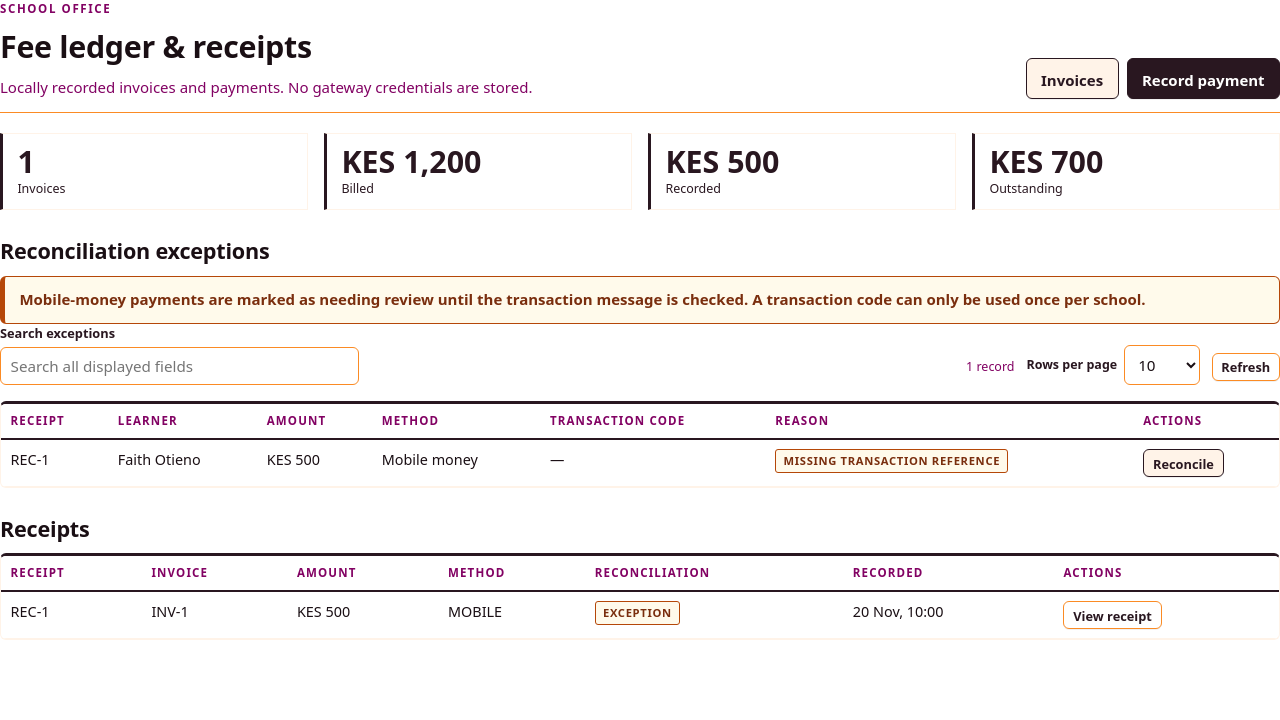
fee ledger › opens a printable receipt derived from a recorded payment
Click the button with aria-label "View receipt REC-1": (1113, 615) [1064, 601, 1162, 629]
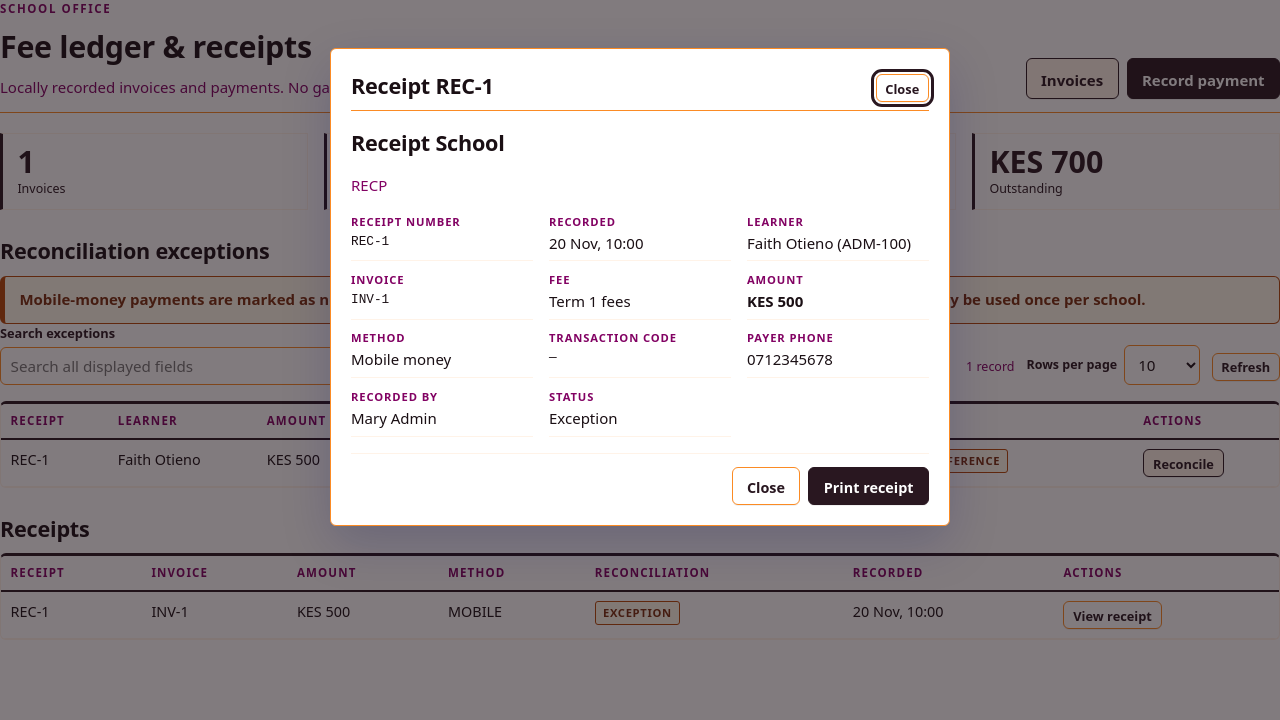
Check: the text "REC-1" is shown, box [351, 234, 389, 248]
Check: the button "Print receipt" is shown, box [808, 467, 929, 505]
